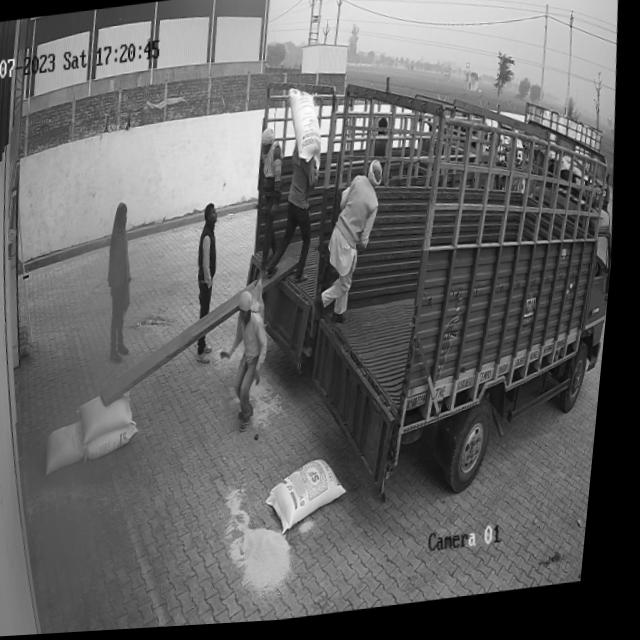sack: (271, 459, 361, 538), (285, 87, 329, 168), (82, 393, 143, 445), (91, 422, 150, 463), (51, 422, 96, 474)
